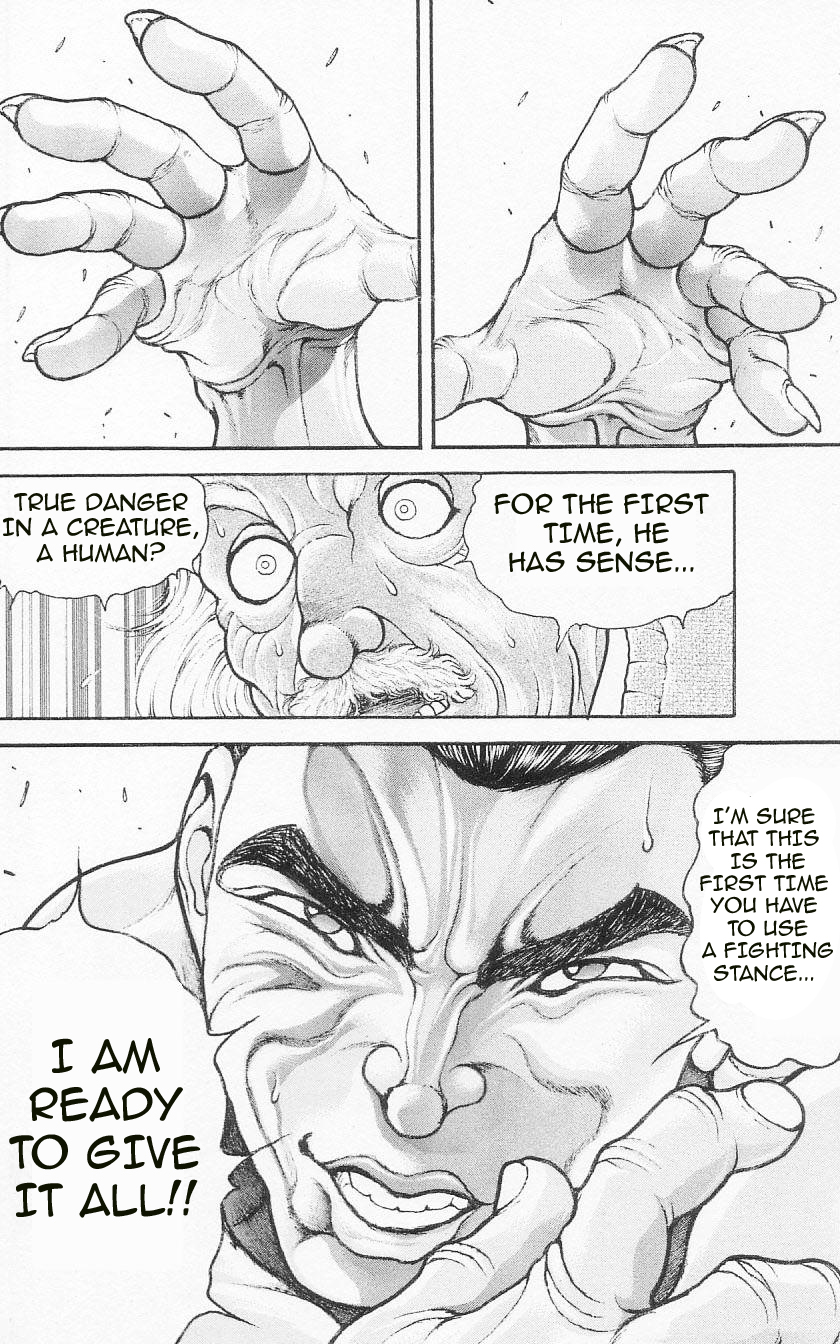Baloon: (4, 872, 239, 1344), (680, 725, 840, 1071), (457, 476, 739, 631), (1, 470, 206, 608)
Vignetta: (4, 747, 836, 1344), (3, 1, 419, 453), (431, 3, 840, 443), (1, 472, 733, 716)
